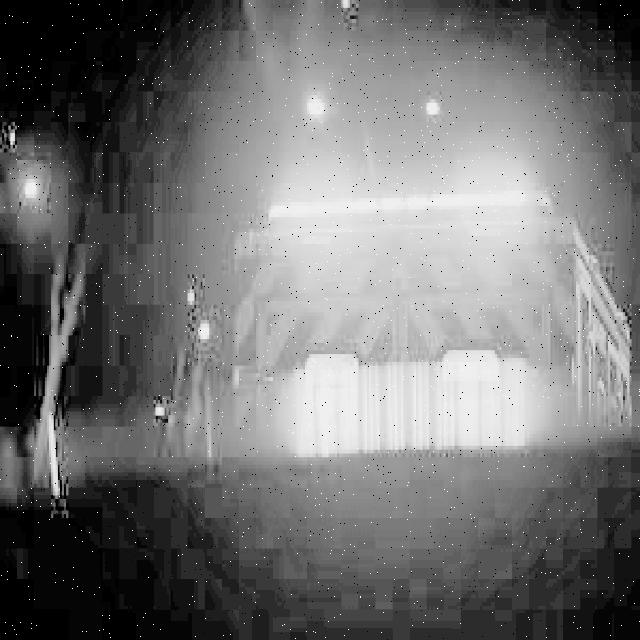Ambulance: (183, 65, 614, 373)
